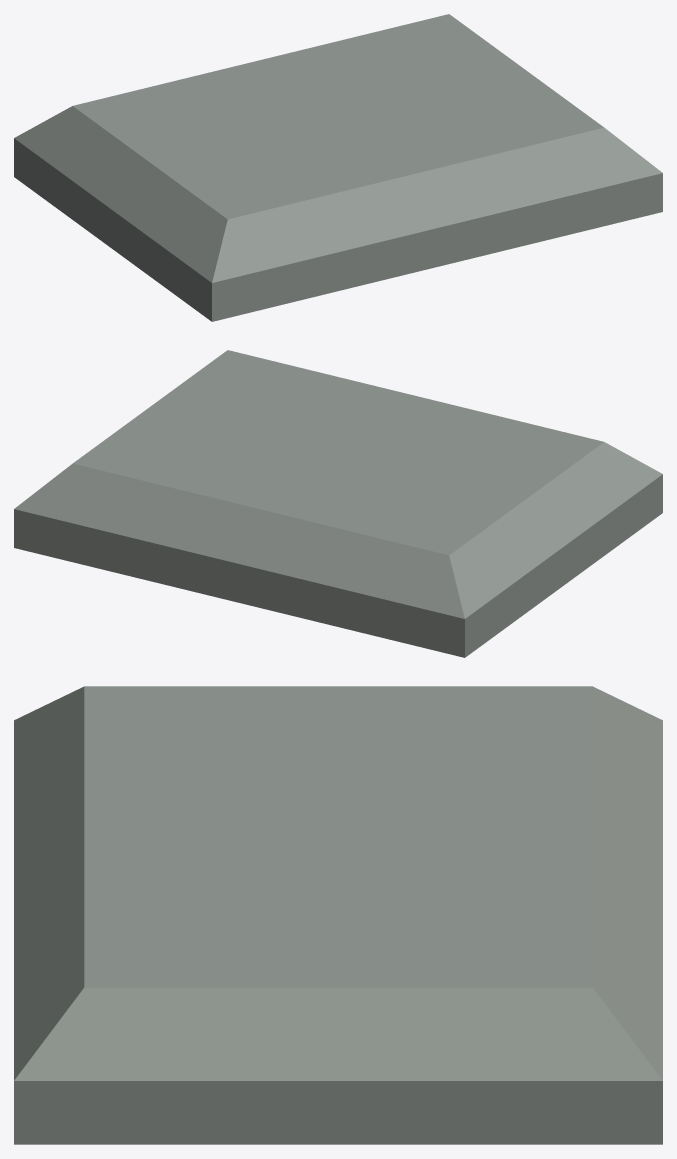
File: SM_Env_Path_Cobble_Stone_01.glb
The picture shows the model from 3 angles, top to bottom: view 1: azimuth 30°, elevation 25°; view 2: azimuth 150°, elevation 25°; view 3: azimuth 270°, elevation 25°; orthographic projection. The views are drawn at different scales.
Parts seen in each view (by area): view 1: SM_Env_Path_Cobble_Stone_01; view 2: SM_Env_Path_Cobble_Stone_01; view 3: SM_Env_Path_Cobble_Stone_01.
Part boxes in pixels (left/top/right/bottom): SM_Env_Path_Cobble_Stone_01: left=14, top=14, right=662, bottom=321; SM_Env_Path_Cobble_Stone_01: left=14, top=350, right=662, bottom=657; SM_Env_Path_Cobble_Stone_01: left=14, top=686, right=662, bottom=1144.
Size of the model in its own units: 0.4115 by 0.0678 by 0.313.
1 material, 1 textured.
